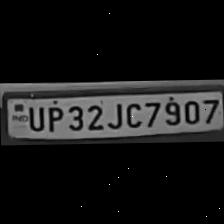0: (180, 98, 200, 124)
2: (84, 100, 104, 130)
3: (63, 101, 83, 130)
7: (199, 95, 221, 124), (142, 99, 160, 127)
9: (161, 98, 181, 124)
C: (122, 98, 142, 127)
J: (105, 100, 123, 128)
P: (42, 103, 64, 132)
U: (24, 102, 44, 130)
